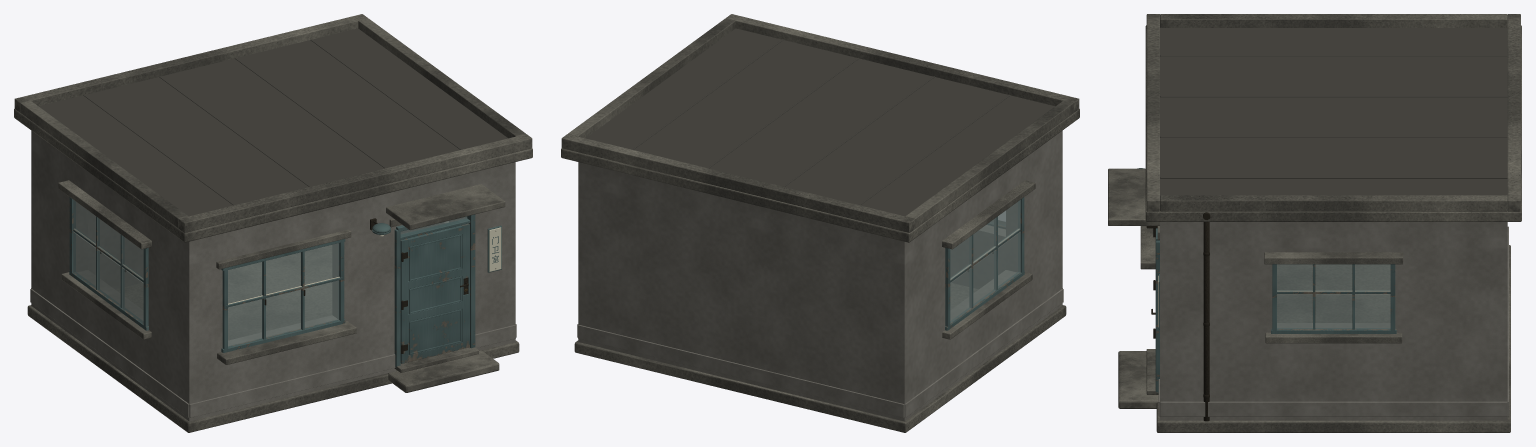
Rendered from Guardhouse_Rebuilt.glb.
3 renders of one model, left to right at view 1: azimuth 30°, elevation 25°; view 2: azimuth 150°, elevation 25°; view 3: azimuth 270°, elevation 25°, orthographic. The views are drawn at different scales.
Parts seen in each view (by area): view 1: Guardhouse_Shell, Guardhouse_Roof, Guardhouse_DoorLeaf; view 2: Guardhouse_Shell, Guardhouse_Roof; view 3: Guardhouse_Shell, Guardhouse_Roof.
Part boxes in pixels (left/top/right/bottom): Guardhouse_Shell: left=27, top=130, right=519, bottom=432; Guardhouse_Roof: left=14, top=14, right=532, bottom=242; Guardhouse_DoorLeaf: left=400, top=223, right=469, bottom=363; Guardhouse_Shell: left=574, top=130, right=1066, bottom=432; Guardhouse_Roof: left=561, top=14, right=1079, bottom=242; Guardhouse_Shell: left=1108, top=168, right=1510, bottom=432; Guardhouse_Roof: left=1145, top=14, right=1521, bottom=221.
Size of the model in its own units: 6.02 by 3.54 by 5.6.
Materials: 10 (5 with a texture image).
